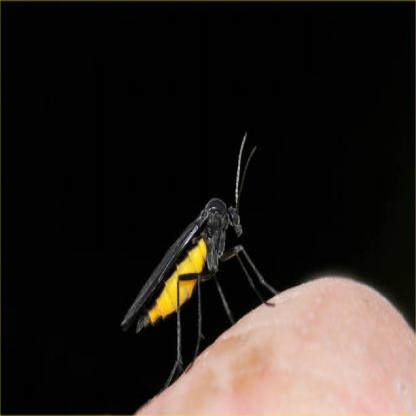sawfly: (118, 137, 284, 385)
